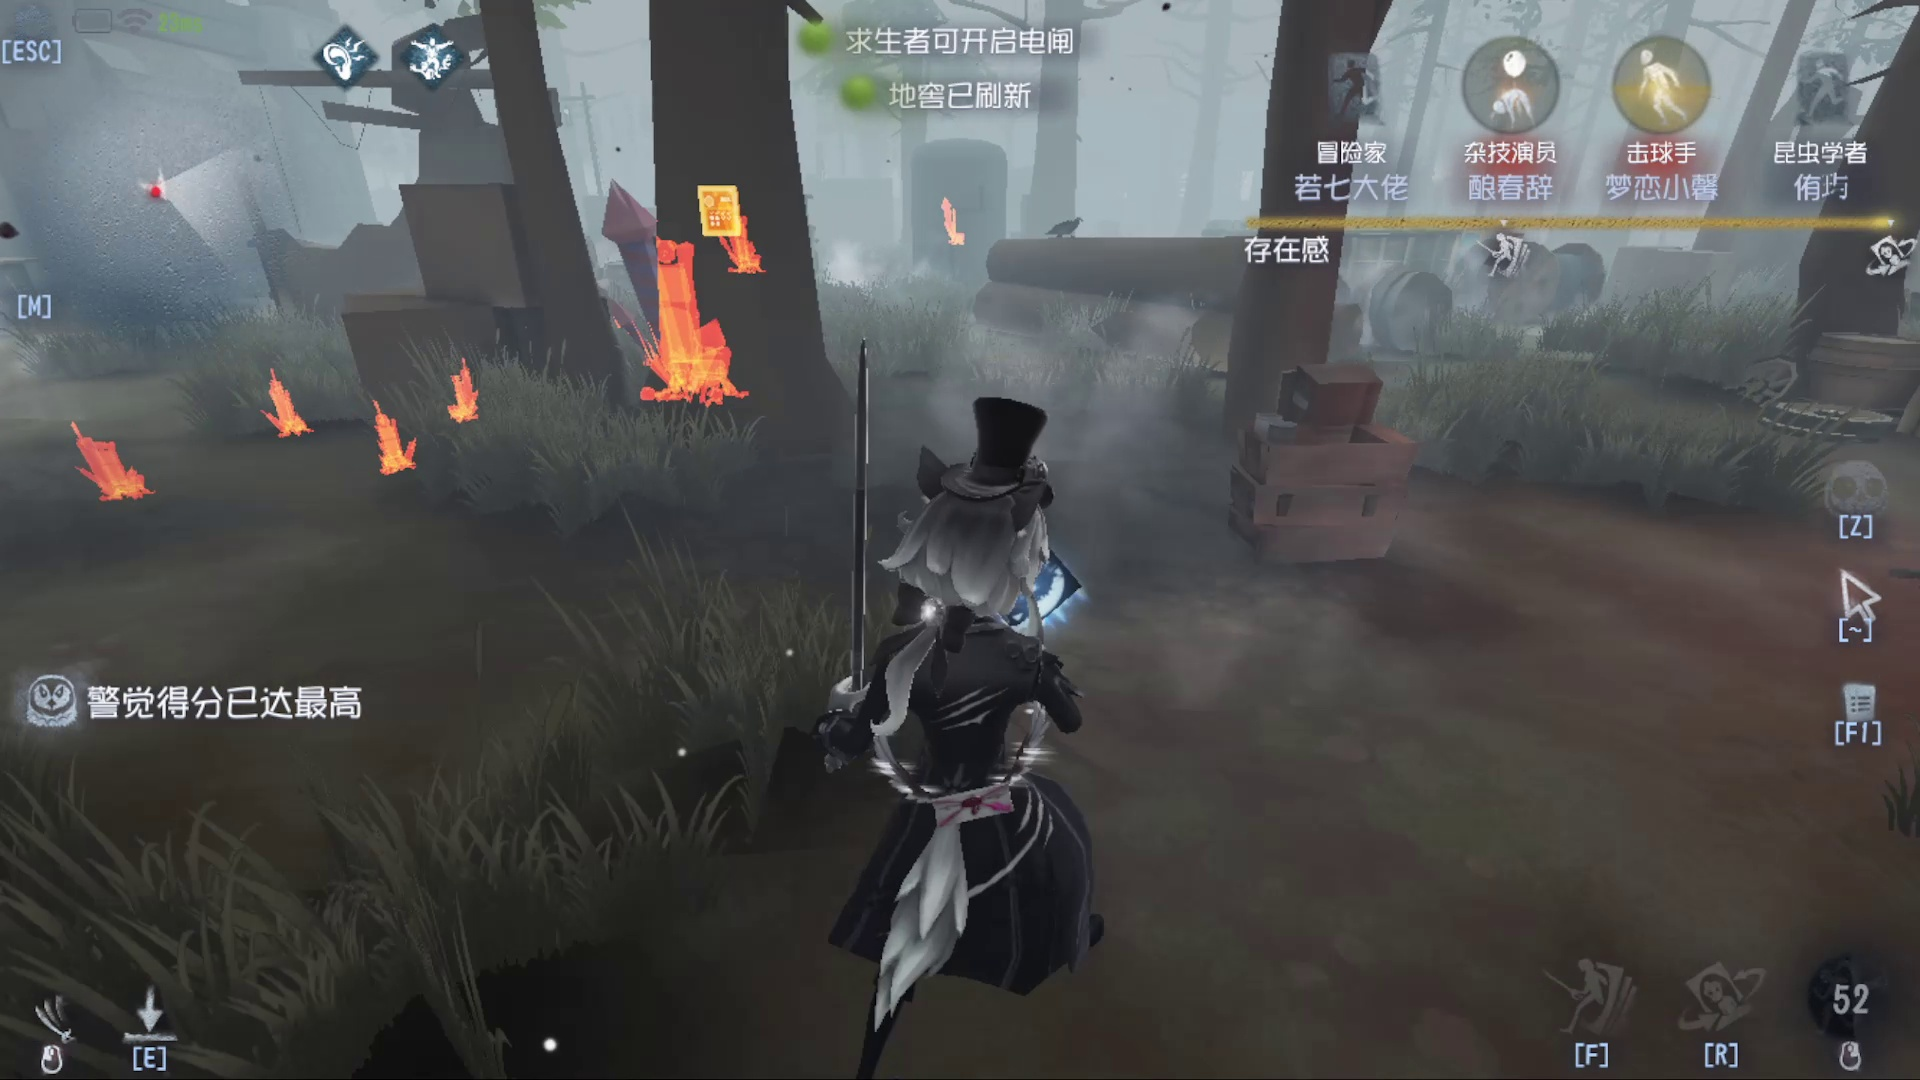狂欢之椅: (585, 178, 727, 411), (349, 392, 454, 518), (54, 404, 152, 516), (244, 359, 326, 462), (924, 183, 1006, 280), (425, 351, 502, 439)
